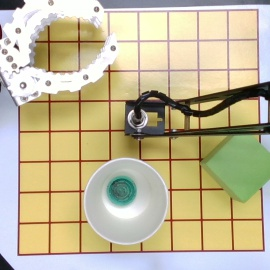cup_green: (81, 156, 169, 246)
